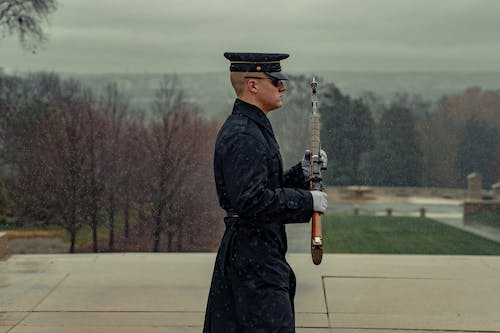gun: (306, 71, 325, 266)
